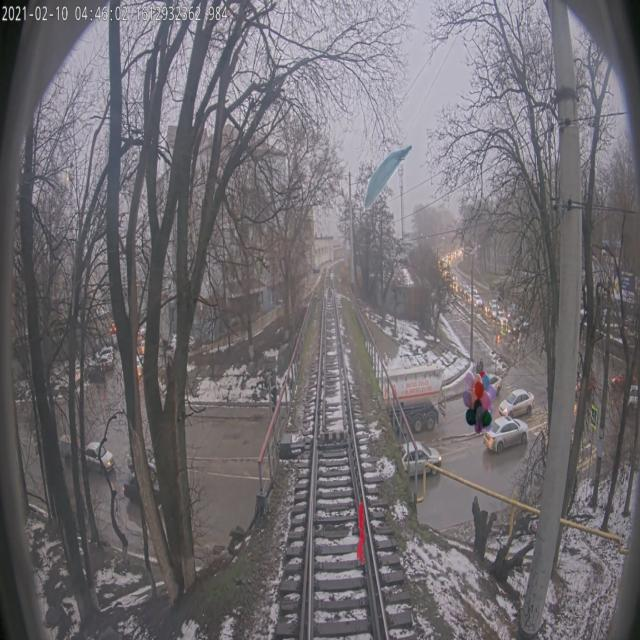balloon: (463, 370, 496, 434)
floating object: (362, 146, 413, 210), (357, 500, 366, 564)
